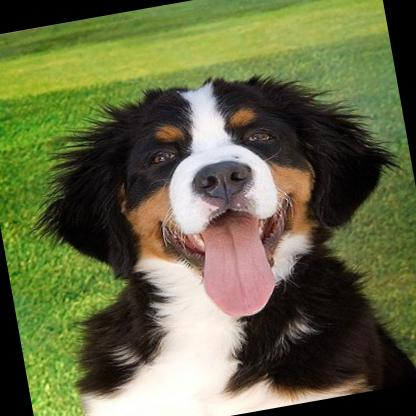Bernese_mountain_dog: (13, 51, 416, 416)
